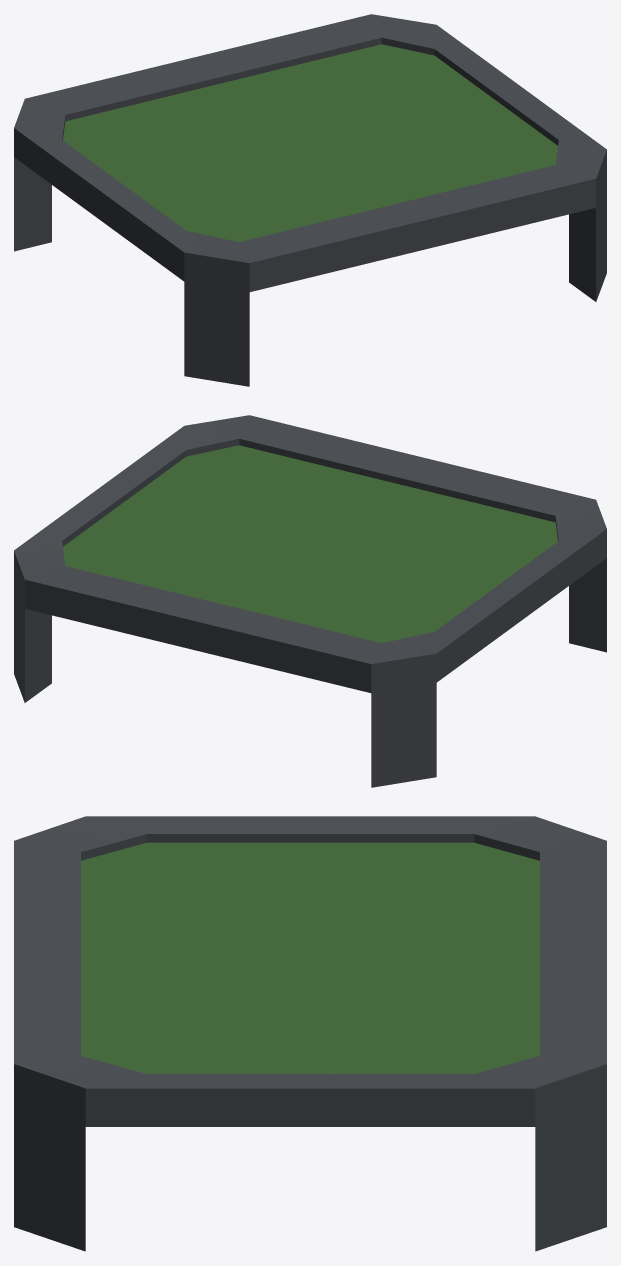
The model's file is SM_GameArea_RecreationalMachines_12.fbx.
The picture shows the model from 3 angles, top to bottom: view 1: azimuth 30°, elevation 25°; view 2: azimuth 150°, elevation 25°; view 3: azimuth 270°, elevation 25°; orthographic projection. The views are drawn at different scales.
Visible parts, largest first — view 1: SM_GameArea_RecreationalMachines_12; view 2: SM_GameArea_RecreationalMachines_12; view 3: SM_GameArea_RecreationalMachines_12.
Boxes of the visible parts, x1,y1,x2,y2 form: SM_GameArea_RecreationalMachines_12: (14,14,606,386); SM_GameArea_RecreationalMachines_12: (14,415,606,787); SM_GameArea_RecreationalMachines_12: (14,816,606,1251).
Bounding box in the file's own units: 8.16 × 2.28 × 7.51.
1 material, 1 textured.
